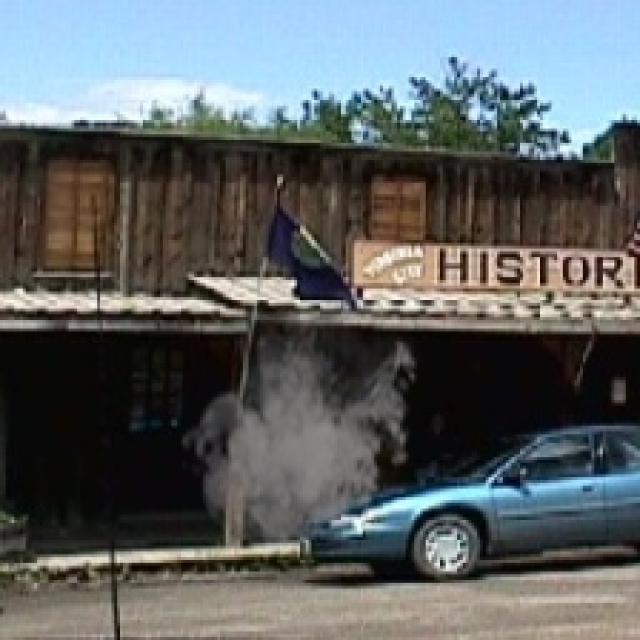smoke: (177, 303, 423, 557)
